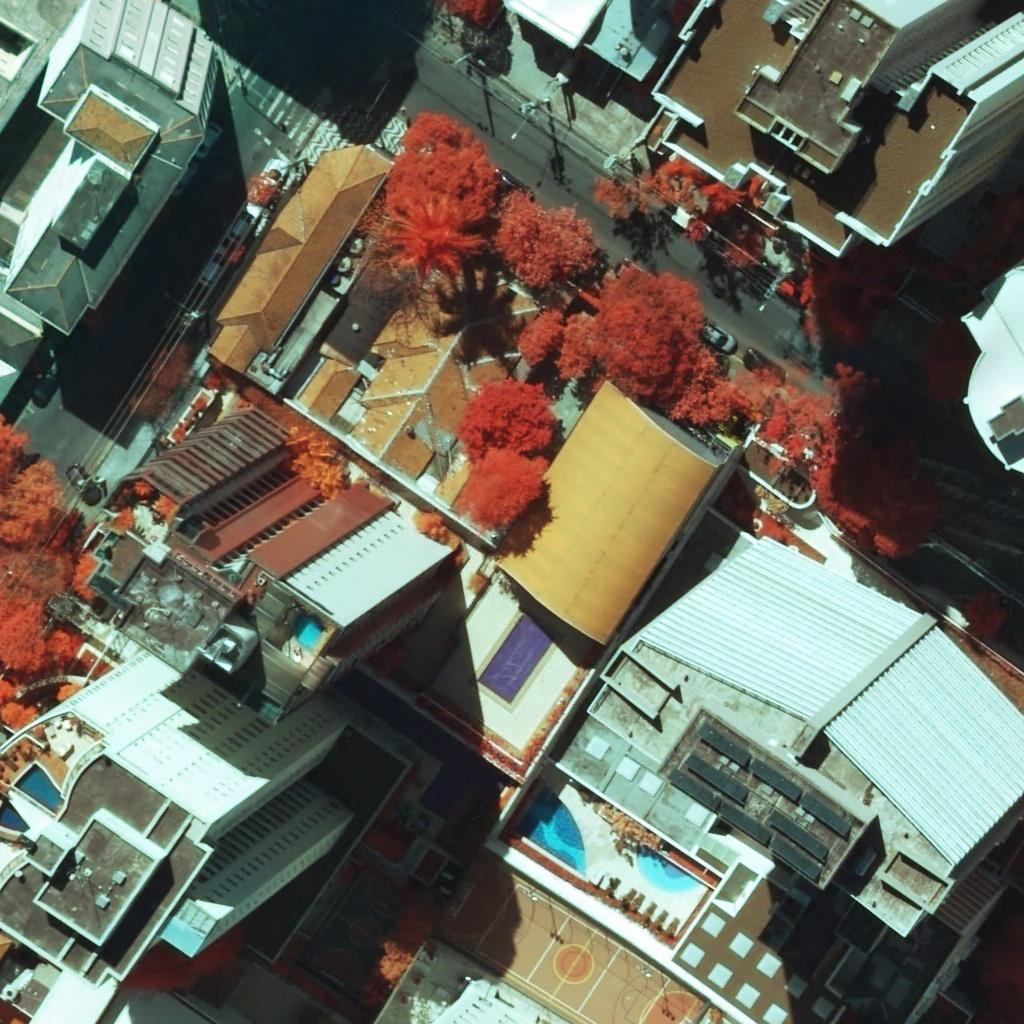pool: (478, 615, 556, 703), (515, 786, 585, 876), (636, 846, 702, 893), (14, 764, 64, 815), (295, 614, 324, 648)
